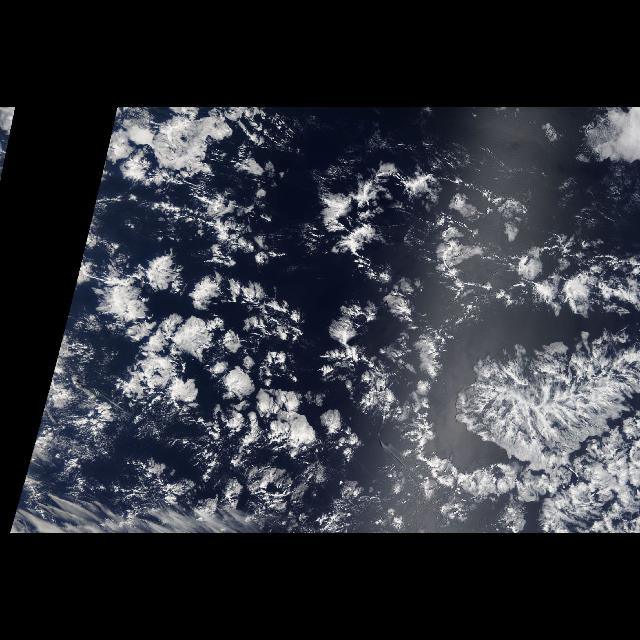Fish: (452, 337, 640, 477)
Flower: (67, 108, 639, 526)
